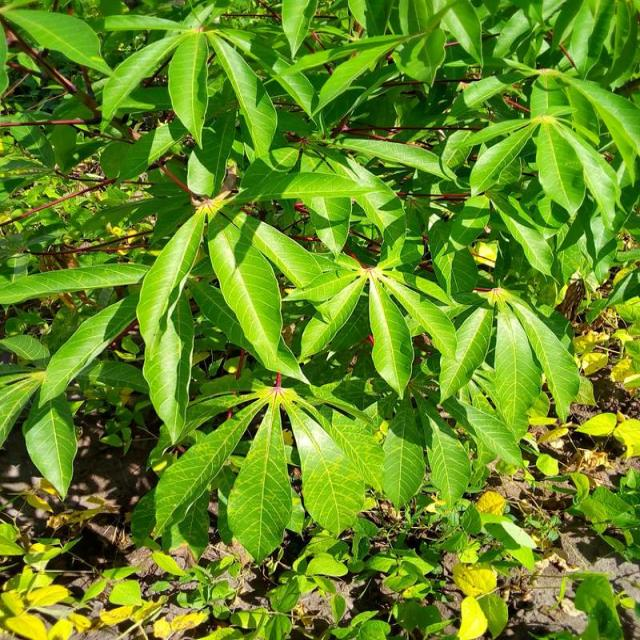cassava leaf: (2, 0, 638, 635), (137, 204, 207, 445), (227, 392, 294, 564)
